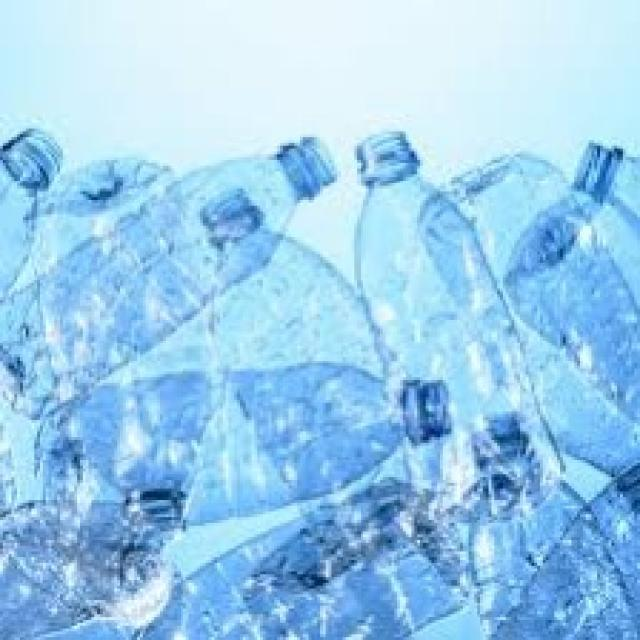heap: (15, 145, 640, 640)
plastic_bottle: (342, 133, 577, 533)
